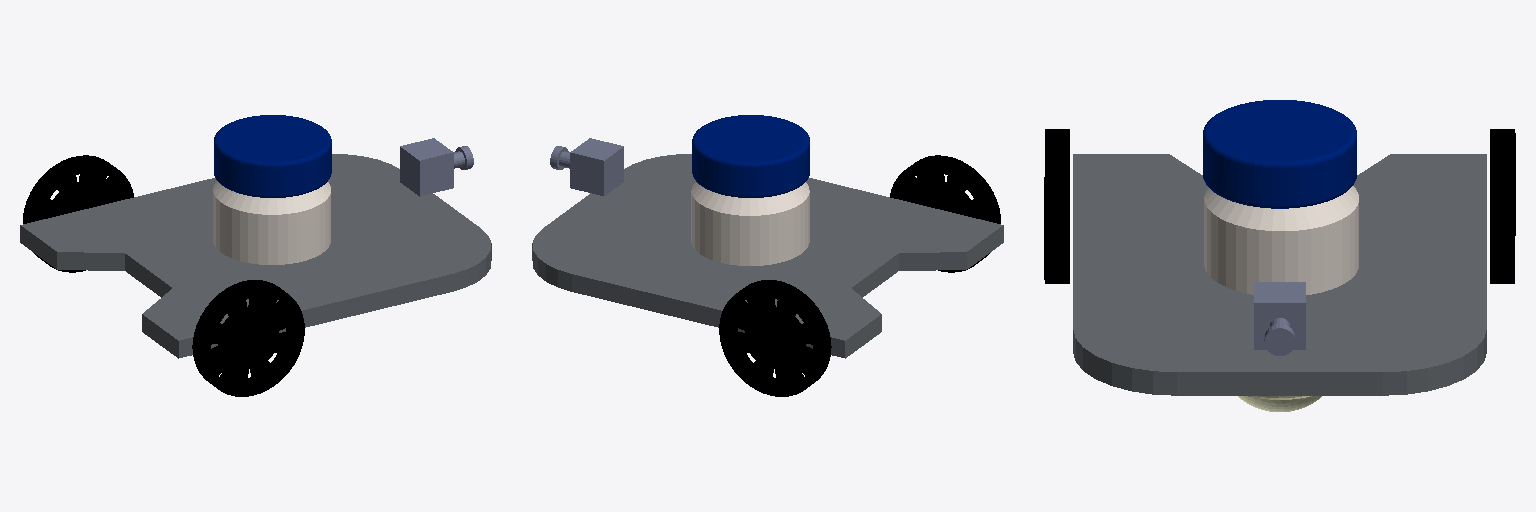
robot.urdf — mobile_urdf:
<?xml version= "1.0" ?>
<!-- Change color [ https://www.w3schools.com/css/css_colors_rgb.asp ] -->
<!-- Base link -->
<robot name = "mobile_urdf">
    <link name = "base_link">
        <visual>
            <origin xyz = "0 0 0 " rpy = "0 0 0"/>
            <geometry>
                    <!-- base -->
                    <mesh filename = "package://urdf_sim/model/meshes/base.STL"  />        
                    <!--box size = "1 0.8 0.05" /--> 
            </geometry>
            <material name = "Grey"> 
                <color rgba = "0.43 0.45 0.47 1" /> 
            </material>
        </visual>
        <inertial>
            <mass value = "0.3" />
            <inertia ixx="0.002001" ixy="0.0" ixz="0.0" iyy="0.002676" iyz="0" izz="0.004662"/>
        </inertial> 

        <collision>
        <origin xyz = "0 0 0 " rpy = "0 0 0"/>
            <geometry>
                <mesh filename = "package://urdf_sim/model/meshes/base.STL"  />
            </geometry>
        </collision>
    </link>
    <!---->

    <!-- WHEEL L - R -->
    <link name = "leftwheel_link">
        <visual>
            <origin xyz = "0 0 0" rpy = "1.57 0 1.57"/>
            <geometry>
                    <!-- Left wheel -->
                    <mesh filename = "package://urdf_sim/model/meshes/wheel.STL"/>     
                          
                    <!--cylinder radius = "0.15" length = "0.05" /--> 
            </geometry>
            <material name = "Black"> 
                <color rgba = "0 0 0 1" /> 
            </material>
        </visual>
        <inertial>
            <mass value = "0.002825" />
            <inertia ixx="0.000032" ixy="0.0" ixz="0.0" iyy="0.000017" iyz="0" izz="0.000017"/>
        </inertial>
        <collision>
            <origin xyz = "0 0 0" rpy = "1.57 0 1.57"/>
            <geometry>
                <mesh filename = "package://urdf_sim/model/meshes/wheel.STL"/>
            </geometry>
        </collision>
    </link>

    <link name = "rightwheel_link">
        <visual>
            <origin xyz = "0 0 0" rpy = "1.57 0 1.57"/>
            <geometry>
                    <!-- Right wheel -->
                    <mesh filename = "package://urdf_sim/model/meshes/wheel.STL"/> 
                    <!--cylinder radius = "0.15" length = "0.05" / --> 
            </geometry>
            <material name = "Black"> 
                <color rgba = "0 0 0 1" /> 
            </material>
        </visual>
        <inertial>
            <mass value = "0.002825" />
            <inertia ixx="0.000032" ixy="0.0" ixz="0.0" iyy="0.000017" iyz="0" izz="0.000017"/>
        </inertial>
        <collision>
            <origin xyz = "0 0 0" rpy = "1.57 0 1.57"/>
            <geometry>
                <mesh filename = "package://urdf_sim/model/meshes/wheel.STL"/>
            </geometry>
        </collision>
    </link>
    <!---->

    <!-- lidar -->
    <link name = "lidarbase_link">
        <visual>
            <origin xyz = "0 0 0" rpy = "0 0 0" />
            <geometry>
                <!-- Lidar -->
                <mesh filename = "package://urdf_sim/model/meshes/lidarBase.STL"/> 
                <!--cylinder radius = "0.15" length = "0.2" /-->
            </geometry>
            <material name = "BBase">
                <color rgba = "0.88 0.85 0.82 1"/>
            </material>
        </visual>
        <inertial>
            <mass value = "0.002825" />
            <inertia ixx="0.000114" ixy="0.0" ixz="0.0" iyy="0.000114" iyz="0" izz="0.000145"/>
        </inertial>
        <collision>
            <origin xyz = "0 0 0" rpy = "0 0 0" />
            <geometry>
                <mesh filename = "package://urdf_sim/model/meshes/lidarBase.STL"/>
            </geometry>
        </collision>
    </link>

    <link name = "lidar_link">
        <visual>
            <origin xyz = "0 0 0" rpy = "0 0 0" />
            <geometry>
                <!-- Lidar -->
                <mesh filename = "package://urdf_sim/model/meshes/Lidar.STL"/> 
                <!-- cylinder radius = "0.15" length = "0.1" / -->
            </geometry>
            <material name = "Blue">
                <color rgba = "0 0.15 0.49 1"/>
            </material>
        </visual>
        <inertial>
            <mass value = "0.007009" />
            <inertia ixx="0.000045" ixy="0.0" ixz="0.0" iyy="0.000045" iyz="0" izz="0.000078"/>
        </inertial>
        <collision>
            <origin xyz = "0 0 0" rpy = "0 0 0" />
            <geometry>
                <mesh filename = "package://urdf_sim/model/meshes/Lidar.STL"/>
            </geometry>
        </collision>
    </link>

    <!---->

    <!-- Caster -->
    <link name = "caster_link">
        <visual>
            <origin xyz = "0 0 0" rpy = "0 0 0" />
            <geometry>
                <!-- Caster -->
                <mesh filename = "package://urdf_sim/model/meshes/ball.STL"/> 
                <!--sphere radius = "0.125" /--> 
            </geometry>
            <material name = "yellow">
                <color rgba = "1 1 0.85 1.0"/>
            </material>
        </visual>
        <collision>
            <origin xyz = "0 0 0" rpy = "0 0 0" />
            <geometry>
                <mesh filename = "package://urdf_sim/model/meshes/ball.STL"/>
            </geometry>
        </collision>
    </link>
    <!---->
    
    <!-- camera -->
    <link name = "cam_link">
        <visual>
            <origin xyz = "0 0 0" rpy = "0 0 0" />
            <geometry>
                <!-- camera -->
                <mesh filename = "package://urdf_sim/model/meshes/Cam.STL"/> 
                <!--box size = "0.1 0.1 0.1" /--> 
            </geometry>
            <material name = "orange">
                <color rgba = "0.48 0.5 0.59 0.6"/>
            </material>
        </visual>
        <inertial>
            <mass value = "0.036627" />
            <inertia ixx="0.002001" ixy="0.0" ixz="0.0" iyy="0.002676" iyz="0" izz="0.004662"/>
        </inertial> 
        <collision>
            <origin xyz = "0 0 0" rpy = "0 0 0" />
            <geometry>
                <mesh filename = "package://urdf_sim/model/meshes/Cam.STL"/>
            </geometry>
        </collision>
    </link>
    <!---->

    <joint name = "leftwheel_joint" type = "continuous">
        <origin xyz = "-0.32 0.43 0" rpy = "0 0 0" />
        <parent link = "base_link" />
        <child link = "leftwheel_link" />
        <limit effort = "30" velocity = "10" />
        <axis rpy = "0 0 0" xyz = "0 1 0" />
    </joint>

    <joint name = "rightwheel_joint" type = "continuous">
        <origin xyz = "-0.32 -0.43 0" rpy = "0 0 0" />
        <parent link = "base_link" />
        <child link = "rightwheel_link" />
        <limit effort = "30" velocity = "10" />
        <axis rpy = "0 0 0" xyz = "0 1 0" />
    </joint>

    <joint name = "lidarbase_joint" type = "fixed">
        <origin xyz = "0 0 0.125" rpy = "0 0 0" />
        <parent link = "base_link" />
        <child link = "lidarbase_link" />
        <limit effort = "0" velocity = "0" />
    </joint>

    <joint name = "lidar_joint" type = "fixed">
        <origin xyz = "0 0 0.135" rpy = "0 0 0" />
        <parent link = "lidarbase_link" />
        <child link = "lidar_link" />
        <limit effort = "0" velocity = "0" />
    </joint>

   <joint name = "caster_joint" type = "fixed">
        <origin xyz = "0.275 0 0" rpy = "0 0 0" />
        <parent link = "base_link" />
        <child link = "caster_link" />
        <limit effort = "0" velocity = "0" />
   </joint>

    <joint name = "cam_joint" type = "revolute">
        <origin  xyz = "0.45 0 0.125" rpy = "0 0 0" />
        <parent  link = "base_link" />
        <child link = "cam_link" />
        <limit effort = "10" velocity = "10" upper = "0.79" lower = "-0.79"/>
        <axis rpy = "0 0 0" xyz = "0 1 0" />
    </joint>
    
    <gazebo reference = "base_link">
        <material> Gazebo/DarkGrey </material>
    </gazebo>

    <gazebo reference = "leftwheel_link">
        <material> Gazebo/WoodPallet </material>
        <mu1 value = "0.4" />
        <mu2 value = "0.35"/>

        <kp value = "1000"/>
        <kd value = "100" />
    </gazebo>

    <gazebo reference = "rightwheel_link">
        <material> Gazebo/WoodPallet </material>
        <mu1 value = "0.4" />
        <mu2 value = "0.35"/>

        <kp value = "1000"/>
        <kd value = "100" />
    </gazebo>

    <gazebo reference = "lidarbase_link">
        <material> Gazebo/FlatBlack </material>
    </gazebo>

    <gazebo reference = "lidar_link">
        <material> Gazebo/SkyBlue </material>
    </gazebo>

    <gazebo reference = "caster_link">
        <material> Gazebo/Grey </material>

        <mu1 value = "0.03" />
        <mu2 value = "0.028"/>

        <kp value = "1000"/>
        <kd value = "100" />
    </gazebo>

    <gazebo reference = "cam_link">
        <material> Gazebo/OrangeTransparentOverlay </material>
    </gazebo>

    <gazebo>

    <!-- rosrun teleop_twist_keyboard teleop_twist_keyboard.py -->

        <plugin filename = "libgazebo_ros_diff_drive.so" name = "differential_drive_controller">
            <alwaysOn> true </alwaysOn>
            <updateRate> 20 </updateRate>
            <leftJoint> leftwheel_joint </leftJoint>
            <rightJoint> rightwheel_joint </rightJoint> 
            <wheelSeparation> 0.9 </wheelSeparation>
            <wheelDiameter> 0.3 </wheelDiameter> 
            <torque> 9 </torque> 
            <commandTopic> cmd_vel </commandTopic> 
            <odometryTopic> odom </odometryTopic> 
            <odometryFrame> odom </odometryFrame> 
            <robotBaseFrame> base_link </robotBaseFrame> 
        </plugin>
    </gazebo> 

    <gazebo>
        <plugin name = "gazebo_ros_control" filename = "libgazebo_ros_control.so">
            <robotNamespace> /mobile_urdf/ </robotNamespace> 
        </plugin> 
    </gazebo>

    <transmission name = "camera_transmission">
        <type> transmission_interface/SimpleTransmission </type> 
        <joint name = "cam_joint">
            <hardwareInterface> hardware_interface/EffortJointInterface </hardwareInterface>
        </joint>

        <actuator name = "servo">
            <hardwareInterface>EffortJointInterface</hardwareInterface> 
            <!-- Report actuator -->
            <mechanicalReduction> 1 </mechanicalReduction> 
        </actuator>
    </transmission>


    <!-- Camera Sensor -->
    <gazebo reference = "cam_link" > 
        <sensor type = "camera" name = "mobile_cam" >
            <update_rate> 15.0 </update_rate>
            <camera name = "head" >
            <origin rpy = "0 0 0" xyz = "0 0 0"/>
            <horizontal_fov> 0.3 </horizontal_fov> 
            <image>
                <width>800</width>
                <height>800</height>
                <format>R8G8B8</format> 
            </image>
            <clip>
                <near> 0.01 </near> 
                <far>100</far> 
            </clip>
            <noise>
                <type> gaussian </type> 
                <stddev>0.007</stddev>
            </noise>
            </camera> 
            <plugin name="camera_controller" filename="libgazebo_ros_camera.so">
                <alwaysOn>true</alwaysOn>
                <updateRate>0.0</updateRate>
                <cameraName>mobile_urdf/camera</cameraName>
                <imageTopicName>image_raw</imageTopicName>
                <cameraInfoTopicName>camera_info</cameraInfoTopicName>
                <frameName>cam_link</frameName>
                <hackBaseline>0.07</hackBaseline>
                <distortionK1>1.0</distortionK1>
                <distortionK2>0.0</distortionK2>
                <distortionK3>0.0</distortionK3>
                <distortionT1>0.0</distortionT1>
                <distortionT2>0.0</distortionT2>
            </plugin>
        </sensor>
    </gazebo>

    <!--- lidar -->
    <gazebo reference = "lidar_link" >
        <sensor type = "ray" name = "mobile_laser_sensor">
        <pose> 0 0 0 0 0 0 </pose>
        <visualize> false </visualize>
        <update_rate>20</update_rate>
            <ray>
                <scan>
                    <horizontal>
                        <samples>720</samples>
                        <resolution>1</resolution>
                        <min_angle> -3.14 </min_angle>
                        <max_angle> 3.14 </max_angle> 
                    </horizontal>
                </scan>

                <range>
                    <min>0.2</min>
                    <max>10.0</max>
                    <resolution>0.01</resolution>
                </range>

                <noise>
                    <type> gaussian </type>
                    <mean> 0.0 </mean>
                    <stddev> 0.01 </stddev>
                </noise>
            </ray>
                <plugin name = "gazebo_ros_head_hokuyo_controller" filename = "libgazebo_ros_laser.so">
                <topicName> /mobile_urdf/laser/scan </topicName>
                <frameName> lidar_link </frameName> 
            </plugin>
        </sensor>
    </gazebo>
    
    <!-- IMU sensor -->
    <gazebo reference="base_link">
        <gravity>true</gravity>
        <sensor name="mobile_imu_sensor" type="imu">
        <always_on>true</always_on>
        <update_rate>100</update_rate>
        <visualize>true</visualize>
        <topic>__default_topic__</topic>
        <plugin filename="libgazebo_ros_imu_sensor.so" name="imu_plugin">
            <topicName>mobile_urdf/imu</topicName>
            <bodyName>base_link</bodyName>
            <updateRateHZ>10.0</updateRateHZ>
            <gaussianNoise>0.0</gaussianNoise>
            <xyzOffset>0 0 0</xyzOffset>
            <rpyOffset>0 0 0</rpyOffset>
            <frameName>base_links</frameName>
            <initialOrientationAsReference>false</initialOrientationAsReference>
        </plugin>
        <pose>0 0 0 0 0 0</pose>
        </sensor>
    </gazebo>


</robot>

--- What the picture shows (computed from the rendered views, not written in the file) ---
3 views of the same robot in one strip: view 1: azimuth 30°, elevation 25°; view 2: azimuth 150°, elevation 25°; view 3: azimuth 270°, elevation 25° (orthographic).
Robot: mobile_urdf — 7 links, 6 joints (1 revolute, 2 continuous, 3 fixed); root link base_link; default pose: every joint at zero.
Visible links, largest first — view 1: base_link, rightwheel_link, lidar_link, lidarbase_link, leftwheel_link, cam_link; view 2: base_link, leftwheel_link, lidar_link, lidarbase_link, rightwheel_link, cam_link; view 3: base_link, lidar_link, lidarbase_link, leftwheel_link, rightwheel_link, cam_link, caster_link.
Link boxes in pixels (x1,y1,x2,y2): base_link: [20, 154, 491, 358]; rightwheel_link: [192, 280, 304, 396]; lidar_link: [214, 115, 331, 197]; lidarbase_link: [213, 181, 330, 264]; leftwheel_link: [23, 155, 133, 272]; cam_link: [400, 138, 473, 196]; base_link: [532, 154, 1003, 358]; leftwheel_link: [719, 280, 831, 396]; lidar_link: [692, 115, 809, 197]; lidarbase_link: [691, 182, 809, 265]; rightwheel_link: [890, 155, 1000, 272]; cam_link: [550, 138, 623, 196]; base_link: [1073, 154, 1486, 395]; lidar_link: [1203, 100, 1356, 208]; lidarbase_link: [1204, 186, 1358, 294]; leftwheel_link: [1490, 129, 1515, 283]; rightwheel_link: [1044, 129, 1069, 283]; cam_link: [1254, 282, 1305, 355]; caster_link: [1238, 396, 1321, 411].
Size in the robot's own frame: 1.08 by 0.9102 by 0.4599 metres.
Meshes: 6 distinct files referenced, 7 mesh visuals loaded (6 binary STL).